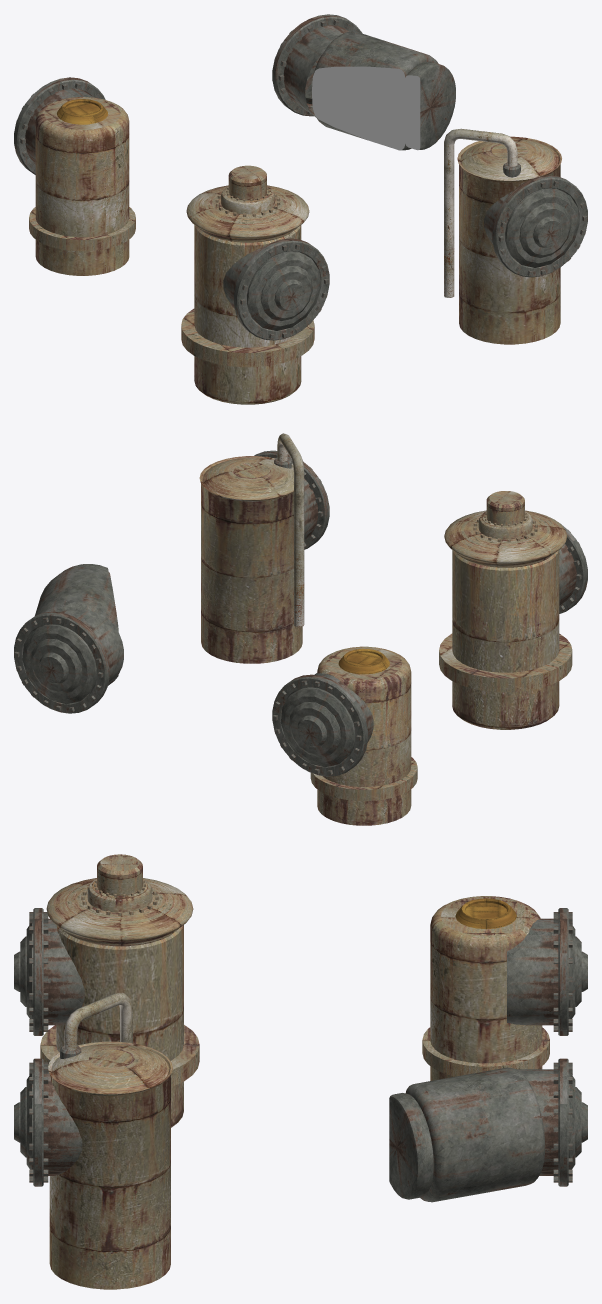
File: static2.fbx
The picture shows the model from 3 angles, top to bottom: view 1: azimuth 30°, elevation 25°; view 2: azimuth 150°, elevation 25°; view 3: azimuth 270°, elevation 25°; orthographic projection. The views are drawn at different scales.
Parts seen in each view (by area): view 1: Cylinder_7, Cylinder_2_2, Cylinder_2_6, Tube, Cube, Cylinder_0, Cylinder_3_2, Cylinder_1_2, Cylinder_4, Cylinder_2, Cylinder_1, Sweep (+5 smaller); view 2: Cylinder_2_2, Cylinder_2_6, Cylinder_7, Tube, Cylinder_0, Cylinder_3_2, Cylinder_1_2, Cylinder_4, Cylinder_2, Cylinder_1, Sweep, Cylinder_5 (+3 smaller); view 3: Cylinder_2_2, Cylinder_2, Cylinder_7, Cylinder_1_2, Cylinder_2_6, Cylinder_3_2, Tube, Cylinder_3, Cylinder_5, Cylinder_0, Cylinder_2_5, Cylinder_1 (+4 smaller).
Part boxes in pixels (x1,y1,x2,y2): Cylinder_7: [35, 97, 129, 275]; Cylinder_2_2: [457, 136, 561, 344]; Cylinder_2_6: [194, 225, 301, 404]; Tube: [14, 14, 587, 340]; Cube: [312, 66, 420, 150]; Cylinder_0: [247, 56, 579, 330]; Cylinder_3_2: [186, 185, 309, 242]; Cylinder_1_2: [25, 25, 564, 308]; Cylinder_4: [181, 308, 314, 367]; Cylinder_2: [313, 31, 438, 150]; Cylinder_1: [261, 202, 571, 320]; Sweep: [444, 128, 517, 297]; Cylinder_2_2: [199, 456, 302, 663]; Cylinder_2_6: [452, 550, 559, 729]; Cylinder_7: [317, 646, 411, 825]; Tube: [14, 450, 587, 776]; Cylinder_0: [22, 624, 354, 767]; Cylinder_3_2: [444, 510, 567, 567]; Cylinder_1_2: [59, 478, 576, 742]; Cylinder_4: [439, 633, 572, 692]; Cylinder_2: [35, 567, 118, 685]; Cylinder_1: [30, 639, 340, 757]; Sweep: [277, 433, 304, 627]; Cylinder_5: [478, 491, 532, 539]; Cylinder_2_2: [48, 1041, 172, 1289]; Cylinder_2: [405, 1067, 544, 1202]; Cylinder_7: [430, 896, 542, 1080]; Cylinder_1_2: [43, 918, 558, 1175]; Cylinder_2_6: [56, 925, 183, 1127]; Cylinder_3_2: [46, 878, 193, 946]; Tube: [33, 908, 568, 1186]; Cylinder_3: [389, 1093, 433, 1199]; Cylinder_5: [87, 854, 152, 912]; Cylinder_0: [26, 923, 575, 1169]; Cylinder_2_5: [422, 1027, 549, 1076]; Cylinder_1: [20, 936, 581, 1157].
Size of the model in its own units: 605 by 311 by 645.
Materials: 4 (4 with a texture image).
